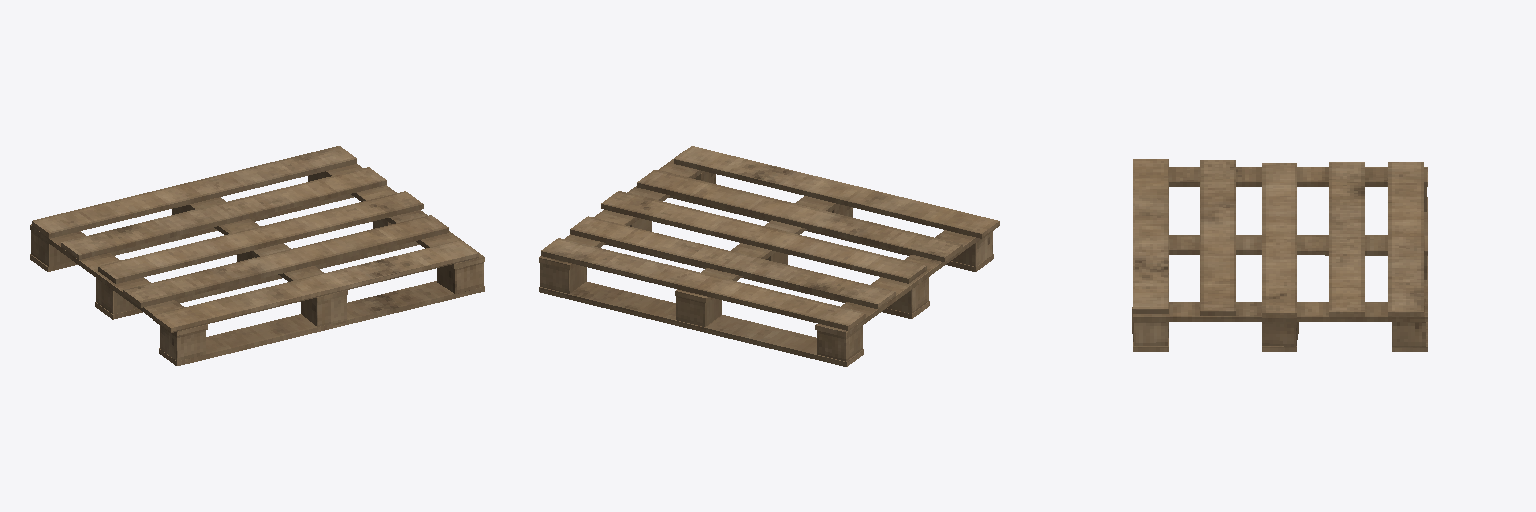
3 renders of one model, left to right at view 1: azimuth 30°, elevation 25°; view 2: azimuth 150°, elevation 25°; view 3: azimuth 270°, elevation 25°, orthographic.
Parts seen in each view (by area): view 1: Pallet_2_Mesh.032; view 2: Pallet_2_Mesh.032; view 3: Pallet_2_Mesh.032.
Boxes of the visible parts, box(x1,y1,x2,y2) form: Pallet_2_Mesh.032: box(30, 146, 484, 365); Pallet_2_Mesh.032: box(539, 146, 999, 366); Pallet_2_Mesh.032: box(1132, 159, 1427, 351).
Size of the model in its own units: 2 by 0.242 by 1.61.
Materials: 1 (1 with a texture image).